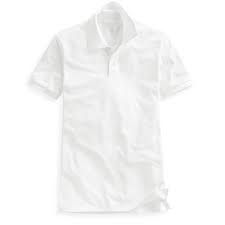C_polo shirt: (30, 11, 191, 217)
